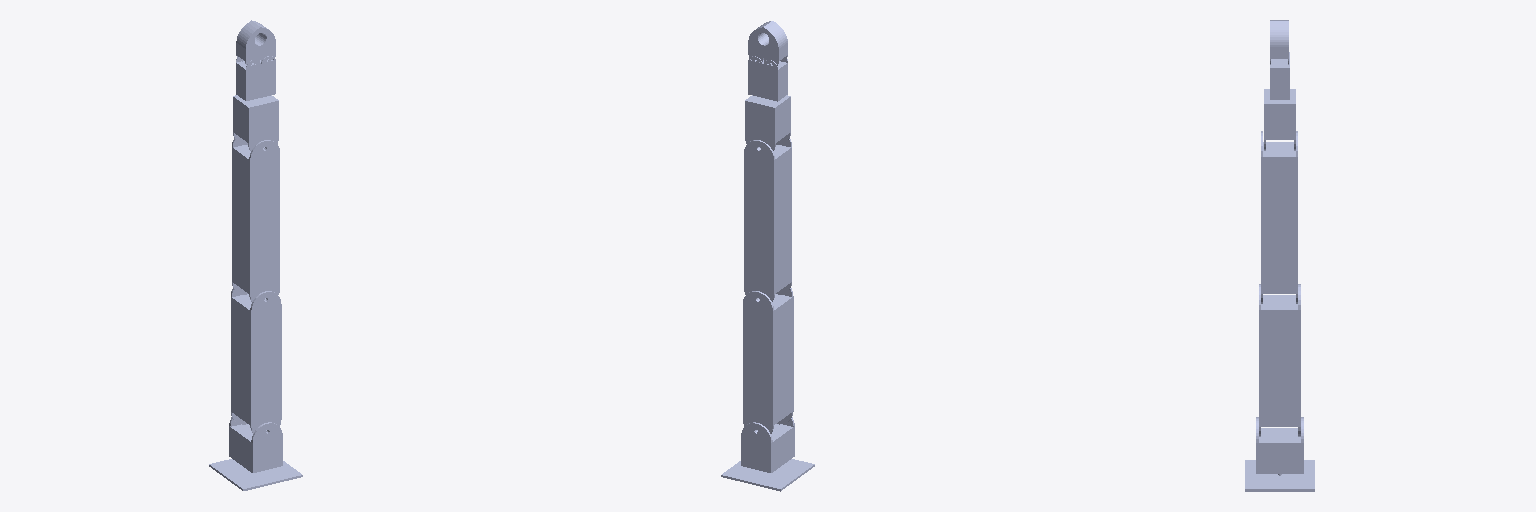
robot.urdf — asimov_simplified:
<?xml version="1.0" encoding="utf-8"?>
<!-- This URDF was automatically created by SolidWorks to URDF Exporter! Originally created by [author] ([email redacted]) 
     Commit Version: 1.5.1-0-g916b5db  Build Version: 1.5.7152.31018
     For more information, please see http://wiki.ros.org/sw_urdf_exporter -->
<robot
  name="asimov_simplified">
  <link
    name="base_link">
    <inertial>
      <origin
        xyz="4.1741E-36 4.9302E-19 0.0042472"
        rpy="0 0 0" />
      <mass
        value="0.118" />
      <inertia
        ixx="0.00022082"
        ixy="-1.4238E-37"
        ixz="-2.5519E-21"
        iyy="0.00022082"
        iyz="1.2317E-20"
        izz="0.00042194" />
    </inertial>
    <visual>
      <origin
        xyz="0 0 0"
        rpy="0 0 0" />
      <geometry>
        <mesh
          filename="package://asimov_simplified/meshes/base_link.STL" />
      </geometry>
      <material
        name="">
        <color
          rgba="0.79216 0.81961 0.93333 1" />
      </material>
    </visual>
    <collision>
      <origin
        xyz="0 0 0"
        rpy="0 0 0" />
      <geometry>
        <mesh
          filename="package://asimov_simplified/meshes/base_link.STL" />
      </geometry>
    </collision>
  </link>
  <link
    name="upbase_link">
    <inertial>
      <origin
        xyz="4.565E-18 0.038705 -1.5824E-17"
        rpy="0 0 0" />
      <mass
        value="0.58276" />
      <inertia
        ixx="0.00085254"
        ixy="1.1312E-19"
        ixz="-5.9904E-20"
        iyy="0.00082203"
        iyz="-2.3382E-19"
        izz="0.00059485" />
    </inertial>
    <visual>
      <origin
        xyz="0 0 0"
        rpy="0 0 0" />
      <geometry>
        <mesh
          filename="package://asimov_simplified/meshes/upbase_link.STL" />
      </geometry>
      <material
        name="">
        <color
          rgba="0.79216 0.81961 0.93333 1" />
      </material>
    </visual>
    <collision>
      <origin
        xyz="0 0 0"
        rpy="0 0 0" />
      <geometry>
        <mesh
          filename="package://asimov_simplified/meshes/upbase_link.STL" />
      </geometry>
    </collision>
  </link>
  <joint
    name="upbase_joint"
    type="continuous">
    <origin
      xyz="0 0 0.025"
      rpy="1.5708 0 0" />
    <parent
      link="base_link" />
    <child
      link="upbase_link" />
    <axis
      xyz="0 1 0" />
  </joint>
  <link
    name="prox_link">
    <inertial>
      <origin
        xyz="6.3306E-18 -0.15716 0.0005625"
        rpy="0 0 0" />
      <mass
        value="1.9378" />
      <inertia
        ixx="0.014439"
        ixy="9.1498E-19"
        ixz="-1.3979E-19"
        iyy="0.0022903"
        iyz="1.5237E-19"
        izz="0.014015" />
    </inertial>
    <visual>
      <origin
        xyz="0 0 0"
        rpy="0 0 0" />
      <geometry>
        <mesh
          filename="package://asimov_simplified/meshes/prox_link.STL" />
      </geometry>
      <material
        name="">
        <color
          rgba="0.79216 0.81961 0.93333 1" />
      </material>
    </visual>
    <collision>
      <origin
        xyz="0 0 0"
        rpy="0 0 0" />
      <geometry>
        <mesh
          filename="package://asimov_simplified/meshes/prox_link.STL" />
      </geometry>
    </collision>
  </link>
  <joint
    name="prox_joint"
    type="revolute">
    <origin
      xyz="0 0.092075 0"
      rpy="0 0 3.1416" />
    <parent
      link="upbase_link" />
    <child
      link="prox_link" />
    <axis
      xyz="0 0 1" />
    <limit
      lower="-1.5708"
      upper="1.5708"
      effort="0"
      velocity="0" />
  </joint>
  <link
    name="distal_link">
    <inertial>
      <origin
        xyz="-6.7589E-18 0.18095 0.00049507"
        rpy="0 0 0" />
      <mass
        value="2.0127" />
      <inertia
        ixx="0.019589"
        ixy="-1.1089E-18"
        ixz="-2.04E-19"
        iyy="0.002078"
        iyz="-1.7181E-18"
        izz="0.019451" />
    </inertial>
    <visual>
      <origin
        xyz="0 0 0"
        rpy="0 0 0" />
      <geometry>
        <mesh
          filename="package://asimov_simplified/meshes/distal_link.STL" />
      </geometry>
      <material
        name="">
        <color
          rgba="0.79216 0.81961 0.93333 1" />
      </material>
    </visual>
    <collision>
      <origin
        xyz="0 0 0"
        rpy="0 0 0" />
      <geometry>
        <mesh
          filename="package://asimov_simplified/meshes/distal_link.STL" />
      </geometry>
    </collision>
  </link>
  <joint
    name="distal_joint"
    type="revolute">
    <origin
      xyz="0 -0.31433 0"
      rpy="0 0 -3.1416" />
    <parent
      link="prox_link" />
    <child
      link="distal_link" />
    <axis
      xyz="0 0 1" />
    <limit
      lower="-1.5708"
      upper="1.5708"
      effort="0"
      velocity="0" />
  </joint>
  <link
    name="wrist_flex_link">
    <inertial>
      <origin
        xyz="1.6288E-17 0.060707 -9.3183E-05"
        rpy="0 0 0" />
      <mass
        value="0.48493" />
      <inertia
        ixx="0.00059851"
        ixy="-1.2113E-19"
        ixz="2.0065E-21"
        iyy="0.00043866"
        iyz="-3.1675E-21"
        izz="0.0006197" />
    </inertial>
    <visual>
      <origin
        xyz="0 0 0"
        rpy="0 0 0" />
      <geometry>
        <mesh
          filename="package://asimov_simplified/meshes/wrist_flex_link.STL" />
      </geometry>
      <material
        name="">
        <color
          rgba="0.79216 0.81961 0.93333 1" />
      </material>
    </visual>
    <collision>
      <origin
        xyz="0 0 0"
        rpy="0 0 0" />
      <geometry>
        <mesh
          filename="package://asimov_simplified/meshes/wrist_flex_link.STL" />
      </geometry>
    </collision>
  </link>
  <joint
    name="wrist_flex_joint"
    type="revolute">
    <origin
      xyz="0 0.3619 0"
      rpy="0 0 0" />
    <parent
      link="distal_link" />
    <child
      link="wrist_flex_link" />
    <axis
      xyz="0 0 1" />
    <limit
      lower="-1.5708"
      upper="1.5708"
      effort="0"
      velocity="0" />
  </joint>
  <link
    name="wrist_twist_link">
    <inertial>
      <origin
        xyz="-1.295E-05 0.038827 -9.0987E-07"
        rpy="0 0 0" />
      <mass
        value="0.25544" />
      <inertia
        ixx="0.000173"
        ixy="-4.8498E-10"
        ixz="-2.9509E-20"
        iyy="0.0001701"
        iyz="9.6433E-21"
        izz="0.00025541" />
    </inertial>
    <visual>
      <origin
        xyz="0 0 0"
        rpy="0 0 0" />
      <geometry>
        <mesh
          filename="package://asimov_simplified/meshes/wrist_twist_link.STL" />
      </geometry>
      <material
        name="">
        <color
          rgba="0.79216 0.81961 0.93333 1" />
      </material>
    </visual>
    <collision>
      <origin
        xyz="0 0 0"
        rpy="0 0 0" />
      <geometry>
        <mesh
          filename="package://asimov_simplified/meshes/wrist_twist_link.STL" />
      </geometry>
    </collision>
  </link>
  <joint
    name="wrist_twist_joint"
    type="continuous">
    <origin
      xyz="1.299E-05 0.11531 -9.2273E-05"
      rpy="0 0 0" />
    <parent
      link="wrist_flex_link" />
    <child
      link="wrist_twist_link" />
    <axis
      xyz="0 1 0" />
  </joint>
  <link
    name="finger1_link">
    <inertial>
      <origin
        xyz="-0.021321 -0.001852 0.019912"
        rpy="0 0 0" />
      <mass
        value="0.081443" />
      <inertia
        ixx="4.3829E-05"
        ixy="-1.8224E-06"
        ixz="-2.7174E-12"
        iyy="1.9906E-05"
        iyz="8.9567E-12"
        izz="4.1116E-05" />
    </inertial>
    <visual>
      <origin
        xyz="0 0 0"
        rpy="0 0 0" />
      <geometry>
        <mesh
          filename="package://asimov_simplified/meshes/finger1_link.STL" />
      </geometry>
      <material
        name="">
        <color
          rgba="0.79216 0.81961 0.93333 1" />
      </material>
    </visual>
    <collision>
      <origin
        xyz="0 0 0"
        rpy="0 0 0" />
      <geometry>
        <mesh
          filename="package://asimov_simplified/meshes/finger1_link.STL" />
      </geometry>
    </collision>
  </link>
  <joint
    name="finger1_joint"
    type="prismatic">
    <origin
      xyz="0.0019818 0.12535 -0.019389"
      rpy="0 0 0" />
    <parent
      link="wrist_twist_link" />
    <child
      link="finger1_link" />
    <axis
      xyz="1 0 0" />
    <limit
      lower="-0.01"
      upper="0"
      effort="0"
      velocity="0" />
  </joint>
  <link
    name="finger2_link">
    <inertial>
      <origin
        xyz="-0.021441 0.001852 -0.019904"
        rpy="0 0 0" />
      <mass
        value="0.081443" />
      <inertia
        ixx="4.3829E-05"
        ixy="1.8224E-06"
        ixz="2.7174E-12"
        iyy="1.9906E-05"
        iyz="8.9567E-12"
        izz="4.1116E-05" />
    </inertial>
    <visual>
      <origin
        xyz="0 0 0"
        rpy="0 0 0" />
      <geometry>
        <mesh
          filename="package://asimov_simplified/meshes/finger2_link.STL" />
      </geometry>
      <material
        name="">
        <color
          rgba="0.79216 0.81961 0.93333 1" />
      </material>
    </visual>
    <collision>
      <origin
        xyz="0 0 0"
        rpy="0 0 0" />
      <geometry>
        <mesh
          filename="package://asimov_simplified/meshes/finger2_link.STL" />
      </geometry>
    </collision>
  </link>
  <joint
    name="finger2_joint"
    type="prismatic">
    <origin
      xyz="-0.002128 0.12535 0.020427"
      rpy="0 0 3.1416" />
    <parent
      link="wrist_twist_link" />
    <child
      link="finger2_link" />
    <axis
      xyz="1 0 0" />
    <limit
      lower="-0.01"
      upper="0"
      effort="0"
      velocity="0" />
  </joint>
</robot>

--- Facts derived from the render (not from the file) ---
3 views of the same robot in one strip: view 1: azimuth 30°, elevation 25°; view 2: azimuth 150°, elevation 25°; view 3: azimuth 270°, elevation 25° (orthographic).
Model asimov_simplified with 8 links and 7 joints (3 revolute, 2 continuous, 2 prismatic), rooted at base_link, posed all joints at 0.
Links seen in each view (by area): view 1: distal_link, prox_link, upbase_link, wrist_flex_link, wrist_twist_link, base_link, finger1_link; view 2: distal_link, prox_link, upbase_link, wrist_flex_link, wrist_twist_link, base_link, finger1_link; view 3: distal_link, prox_link, upbase_link, base_link, wrist_flex_link, wrist_twist_link, finger2_link.
Link boxes in pixels (bbox=[...]): distal_link: bbox=[232, 139, 279, 301]; prox_link: bbox=[231, 288, 281, 433]; upbase_link: bbox=[229, 417, 282, 472]; wrist_flex_link: bbox=[233, 95, 278, 150]; wrist_twist_link: bbox=[236, 56, 275, 100]; base_link: bbox=[209, 459, 302, 490]; finger1_link: bbox=[236, 20, 260, 65]; distal_link: bbox=[744, 139, 791, 301]; prox_link: bbox=[743, 288, 793, 433]; upbase_link: bbox=[741, 417, 794, 472]; wrist_flex_link: bbox=[745, 95, 790, 150]; wrist_twist_link: bbox=[748, 56, 787, 101]; base_link: bbox=[721, 459, 814, 491]; finger1_link: bbox=[764, 21, 787, 65]; distal_link: bbox=[1261, 131, 1297, 303]; prox_link: bbox=[1259, 284, 1300, 436]; upbase_link: bbox=[1256, 417, 1303, 473]; base_link: bbox=[1245, 460, 1314, 491]; wrist_flex_link: bbox=[1264, 89, 1295, 150]; wrist_twist_link: bbox=[1270, 52, 1289, 99]; finger2_link: bbox=[1270, 21, 1288, 64].
Size in the robot's own frame: 0.15 by 0.15 by 1.08 metres.
8 mesh visuals loaded from 8 distinct referenced files (8 binary STL).
